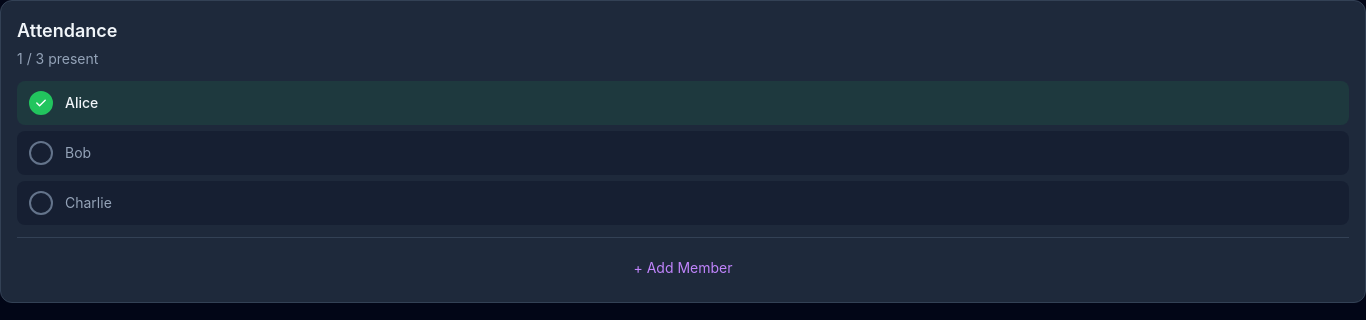
Test case: AttendanceChecklist › tap to toggle › shows optimistic UI update (count changes immediately)
Expected: the text "1 / 3 present" is shown, [17, 50, 98, 67]
Click the button with test id "attendance-row-m-2": (41, 153) [17, 131, 1349, 175]
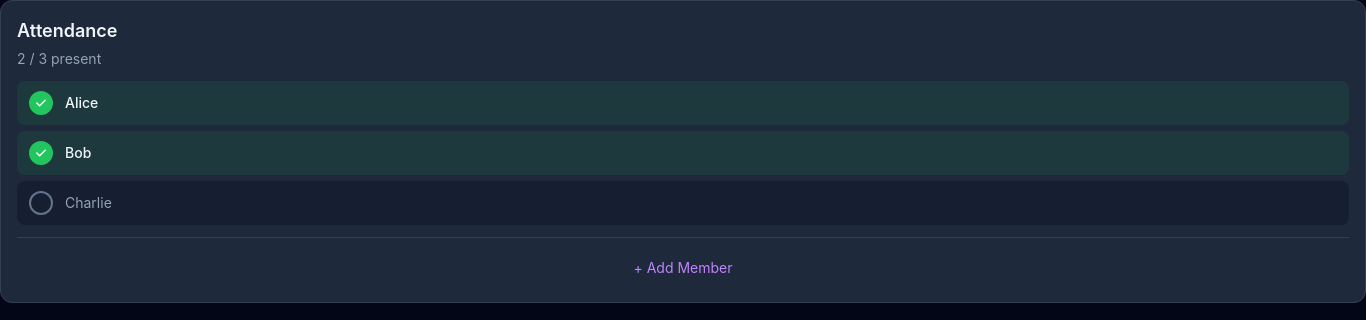
Now the text "2 / 3 present" is shown, box [17, 50, 101, 67]
